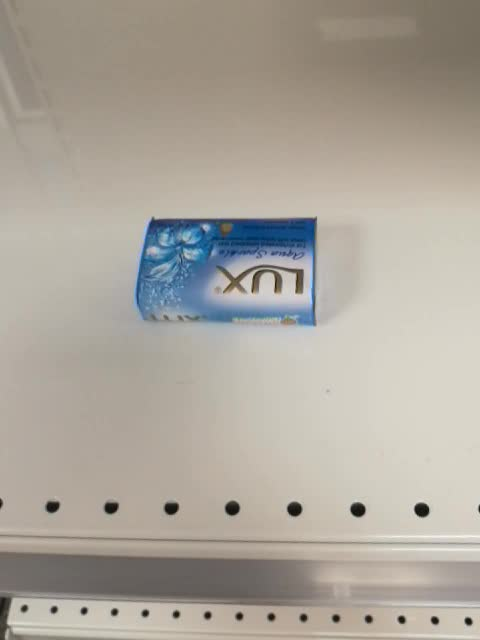soap: (134, 213, 321, 328)
